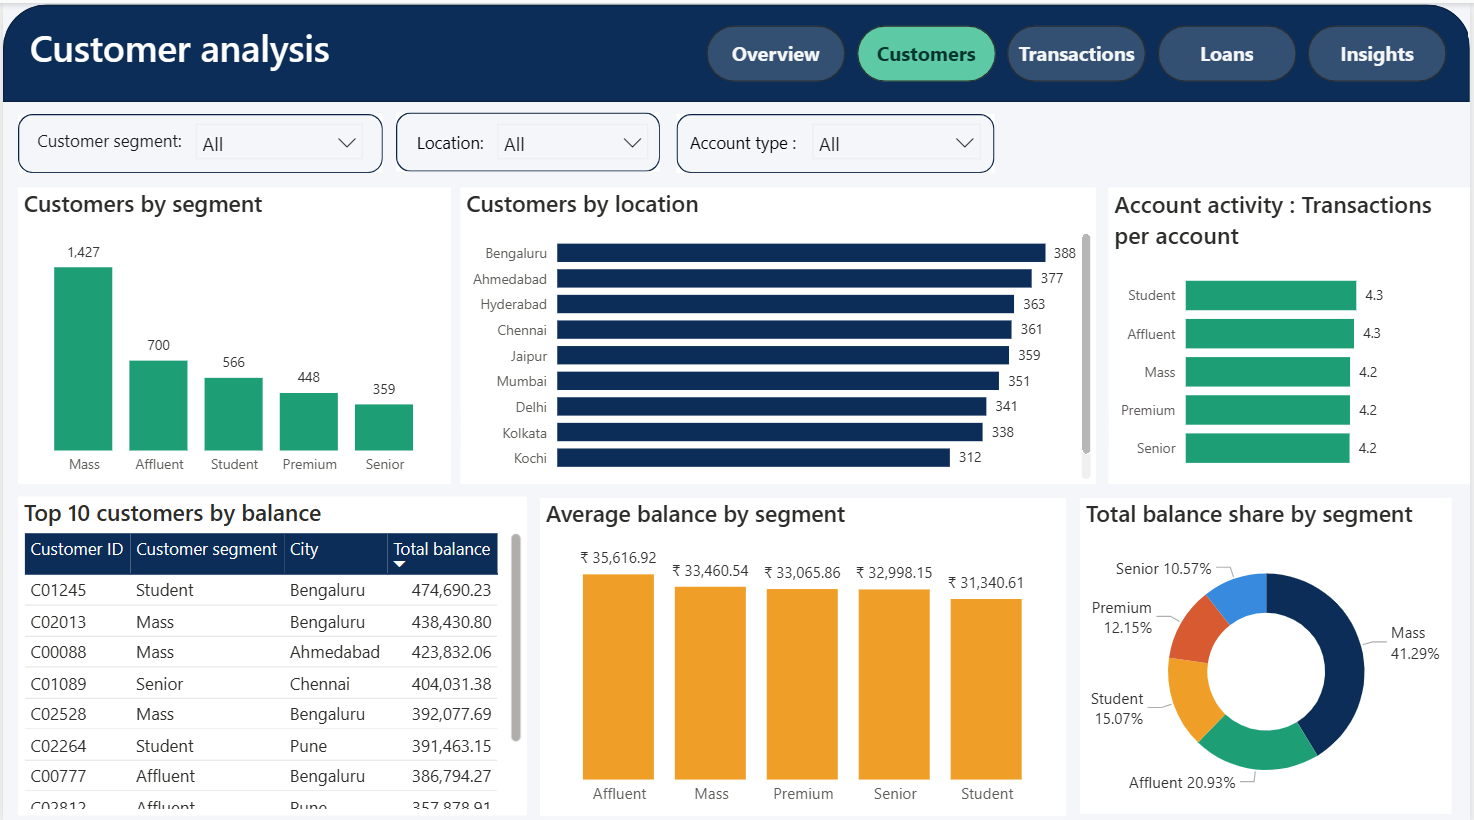

This screenshot's page, from the dashboard's own definition file:
{"tool":"powerbi","page":{"name":"Customers","canvas":[1280,720],"ordinal":1},"visuals":[{"type":"shape","box":[0,1.5,1279.5,85],"z":0},{"type":"textbox","box":[18.2,12.1,569.3,74.2],"z":1000},{"type":"group","id":"g1","title":"Group 1","box":[587.1,94.9,277.1,53.3],"z":2000},{"type":"group","id":"g2","title":"Group 1","box":[342.2,95.4,230.2,51.5],"z":3000},{"type":"group","id":"g3","title":"Group 1","box":[12.6,95.4,318,53],"z":4000},{"type":"pageNavigator","box":[613.3,19.7,649.6,50],"z":5000},{"type":"shape","box":[342.2,95.4,230.2,51.6],"z":5500,"group":"g2"},{"type":"shape","box":[587.1,96.7,277.1,51.5],"z":5500,"group":"g1"},{"type":"shape","box":[12.6,96.9,318,51.5],"z":5500,"group":"g3"},{"type":"slicer","fields":{"Values":["Accounts.Account_Type"]},"box":[696,94.9,166.6,51.5],"z":6000,"group":"g1"},{"type":"slicer","fields":{"Values":["Customers.Customer_Segment"]},"box":[157.9,95.4,165.6,50.2],"z":6000,"group":"g3"},{"type":"slicer","fields":{"Values":["Locations.City"]},"box":[420.9,95.4,151.4,48.5],"z":6000,"group":"g2"},{"type":"columnChart","title":"Customers by segment","fields":{"Category":["Customers.Customer_Segment"],"Y":["_Measures.Total customers"]},"box":[13.6,160.5,377,258.9],"z":6000},{"type":"barChart","title":"Customers by location","fields":{"Category":["Locations.City"],"Y":["_Measures.Total customers"]},"box":[398.2,160.5,554.2,258.9],"z":7000},{"type":"textbox","box":[23.8,105,145.9,31.6],"z":8000,"group":"g3"},{"type":"textbox","box":[355.7,105.4,69.2,30.3],"z":8000,"group":"g2"},{"type":"textbox","box":[593.2,105.9,130.2,30.3],"z":8000,"group":"g1"},{"type":"columnChart","title":"Average balance by segment","fields":{"Category":["Customers.Customer_Segment"],"Y":["_Measures.Average a/c balance"]},"box":[467.9,431.5,458.8,277.1],"z":8000},{"type":"tableEx","title":"Top 10 customers by balance","fields":{"Values":["Customers.Customer_ID","Customers.Customer_Segment","Locations.City","_Measures.Total balance"]},"box":[13.6,430,443.7,277.1],"z":9000},{"type":"donutChart","title":"Total balance share by segment","fields":{"Category":["Customers.Customer_Segment"],"Y":["_Measures.Total balance"]},"box":[938.8,431.5,324,275.6],"z":10000},{"type":"barChart","title":"Account activity : Transactions per account","fields":{"Category":["Customers.Customer_Segment"],"Y":["_Measures.Transactions per account"]},"box":[963,160.5,316.5,258.9],"z":11000}]}

Visuals, with their boxes in screenshot pixels (x1, y1, x2, y2), scaled from the page's 1280x720 canvas onto the 1474x820 screenshot:
shape: {"x1": 0, "y1": 2, "x2": 1473, "y2": 99}
textbox: {"x1": 21, "y1": 14, "x2": 677, "y2": 98}
"Group 1" group: {"x1": 676, "y1": 108, "x2": 995, "y2": 169}
"Group 1" group: {"x1": 394, "y1": 109, "x2": 659, "y2": 167}
"Group 1" group: {"x1": 15, "y1": 109, "x2": 381, "y2": 169}
pageNavigator: {"x1": 706, "y1": 22, "x2": 1454, "y2": 79}
shape: {"x1": 394, "y1": 109, "x2": 659, "y2": 167}
shape: {"x1": 676, "y1": 110, "x2": 995, "y2": 169}
shape: {"x1": 15, "y1": 110, "x2": 381, "y2": 169}
slicer - Accounts.Account_Type: {"x1": 801, "y1": 108, "x2": 993, "y2": 167}
slicer - Customers.Customer_Segment: {"x1": 182, "y1": 109, "x2": 373, "y2": 166}
slicer - Locations.City: {"x1": 485, "y1": 109, "x2": 659, "y2": 164}
"Customers by segment" columnChart: {"x1": 16, "y1": 183, "x2": 450, "y2": 478}
"Customers by location" barChart: {"x1": 459, "y1": 183, "x2": 1097, "y2": 478}
textbox: {"x1": 27, "y1": 120, "x2": 195, "y2": 156}
textbox: {"x1": 410, "y1": 120, "x2": 489, "y2": 155}
textbox: {"x1": 683, "y1": 121, "x2": 833, "y2": 155}
"Average balance by segment" columnChart: {"x1": 539, "y1": 491, "x2": 1067, "y2": 807}
"Top 10 customers by balance" tableEx: {"x1": 16, "y1": 490, "x2": 527, "y2": 805}
"Total balance share by segment" donutChart: {"x1": 1081, "y1": 491, "x2": 1454, "y2": 805}
"Account activity : Transactions per account" barChart: {"x1": 1109, "y1": 183, "x2": 1473, "y2": 478}
